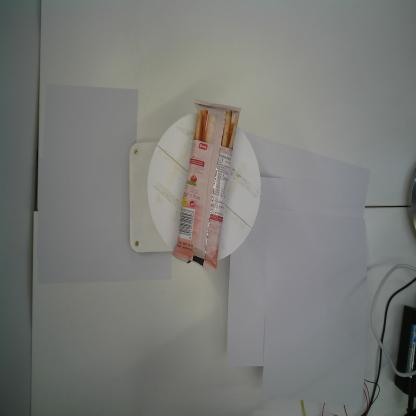Dessert: (171, 98, 242, 274)
